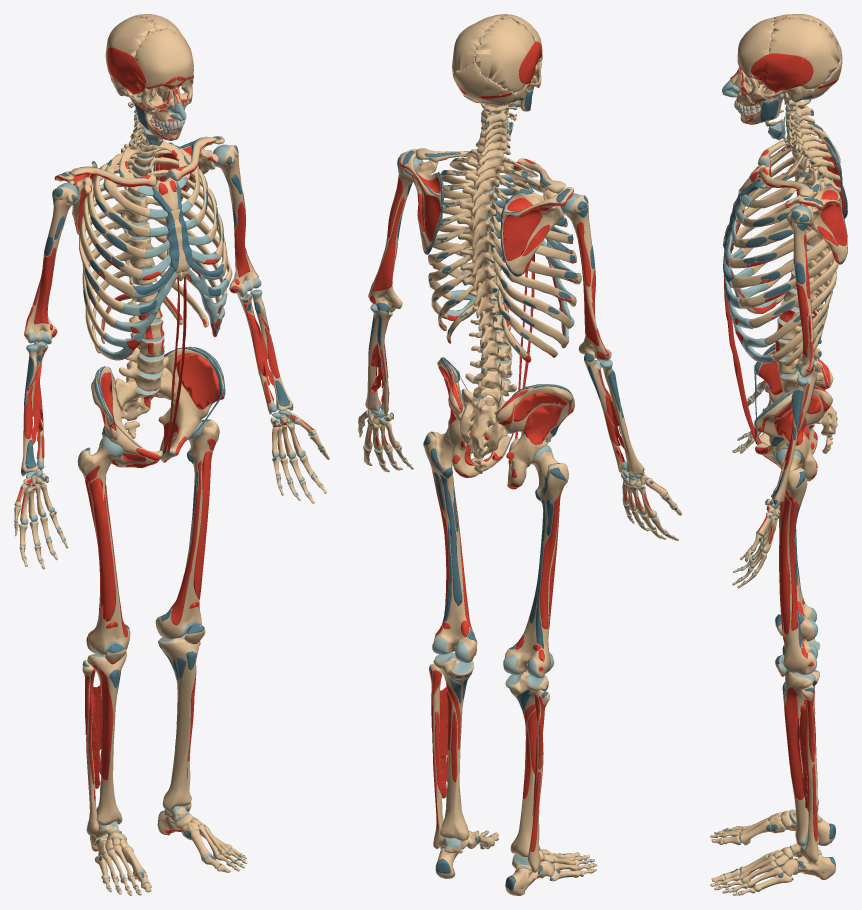
Rendered from muscular_insertions.glb.
3 renders of one model, left to right at view 1: azimuth 30°, elevation 25°; view 2: azimuth 150°, elevation 25°; view 3: azimuth 270°, elevation 25°, orthographic. The views are drawn at different scales.
Visible parts, largest first — view 1: Object_4, Object_73, Object_20, Object_7, Object_16, Object_19, Object_40, Object_6, Object_3, Object_8, Object_36, Object_21 (+29 smaller); view 2: Object_4, Object_20, Object_19, Object_7, Object_29, Object_3, Object_72, Object_32, Object_30, Object_31, Object_89, Object_87 (+28 smaller); view 3: Object_4, Object_5, Object_7, Object_73, Object_20, Object_19, Object_98, Object_21, Object_16, Object_39, Object_8, Object_6 (+39 smaller).
Boxes of the visible parts, <box> form: Object_4: <box>24,86,281,835</box>; Object_73: <box>42,324,280,836</box>; Object_20: <box>35,293,281,891</box>; Object_7: <box>14,136,329,892</box>; Object_16: <box>82,28,246,859</box>; Object_19: <box>21,233,235,891</box>; Object_40: <box>99,185,178,359</box>; Object_6: <box>14,78,323,887</box>; Object_3: <box>19,15,322,889</box>; Object_8: <box>15,166,326,895</box>; Object_36: <box>14,102,323,891</box>; Object_21: <box>159,347,225,461</box>; Object_4: <box>369,153,628,872</box>; Object_20: <box>377,300,628,870</box>; Object_19: <box>428,255,644,860</box>; Object_7: <box>359,148,681,895</box>; Object_29: <box>459,105,512,374</box>; Object_3: <box>364,16,674,872</box>; Object_72: <box>372,197,599,671</box>; Object_32: <box>459,159,506,473</box>; Object_30: <box>457,112,510,331</box>; Object_31: <box>465,102,517,403</box>; Object_89: <box>387,177,590,848</box>; Object_87: <box>438,177,568,478</box>; Object_4: <box>765,135,818,812</box>; Object_5: <box>734,17,840,858</box>; Object_7: <box>711,130,835,894</box>; Object_73: <box>759,351,809,642</box>; Object_20: <box>719,346,833,892</box>; Object_19: <box>716,246,836,885</box>; Object_98: <box>750,53,818,412</box>; Object_21: <box>755,385,832,480</box>; Object_16: <box>732,17,833,895</box>; Object_39: <box>723,180,775,876</box>; Object_8: <box>710,166,826,890</box>; Object_6: <box>724,75,821,886</box>.
Bounding box in the file's own units: 0.6693 × 1.7 × 0.2506.
